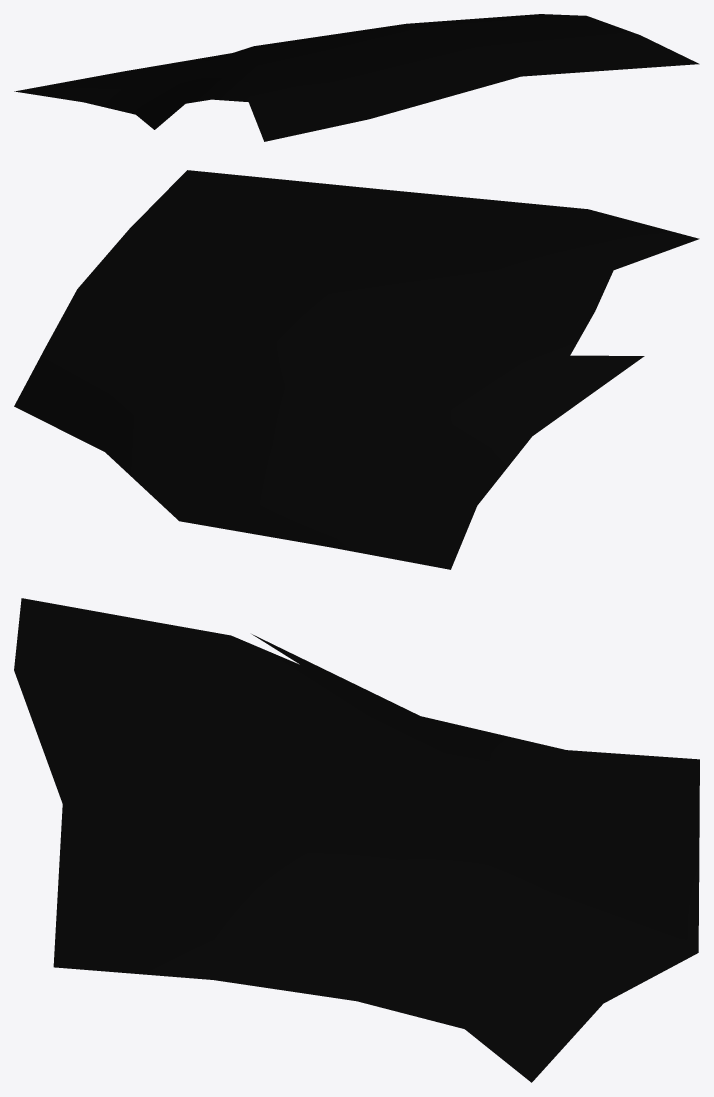
File: HTOWN01_TREESHADOWS35.fbx
3 views of the same model, one above another, from view 1: azimuth 30°, elevation 25°; view 2: azimuth 150°, elevation 25°; view 3: azimuth 270°, elevation 25° (orthographic). The views are drawn at different scales.
Visible parts, largest first — view 1: HTOWN01_TREESHADOWS35; view 2: HTOWN01_TREESHADOWS35; view 3: HTOWN01_TREESHADOWS35.
Boxes of the visible parts, x1,y1,x2,y2 form: HTOWN01_TREESHADOWS35: (14, 14, 699, 141); HTOWN01_TREESHADOWS35: (14, 170, 699, 569); HTOWN01_TREESHADOWS35: (14, 598, 699, 1082).
Size of the model in its own units: 188139 by 51043 by 163298.
Materials: 1 (1 with a texture image).
